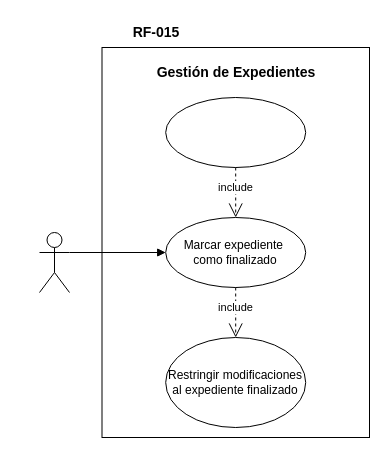
This 387x455 diagram has some shape labels left out. The shapes that lost their labels are listed below. From the top down, each one's box as (x1, y1, x2, y2) in pixels, then its label:
(165, 96, 306, 168): Detectar expediente activo
(38, 232, 70, 292): Administrador
